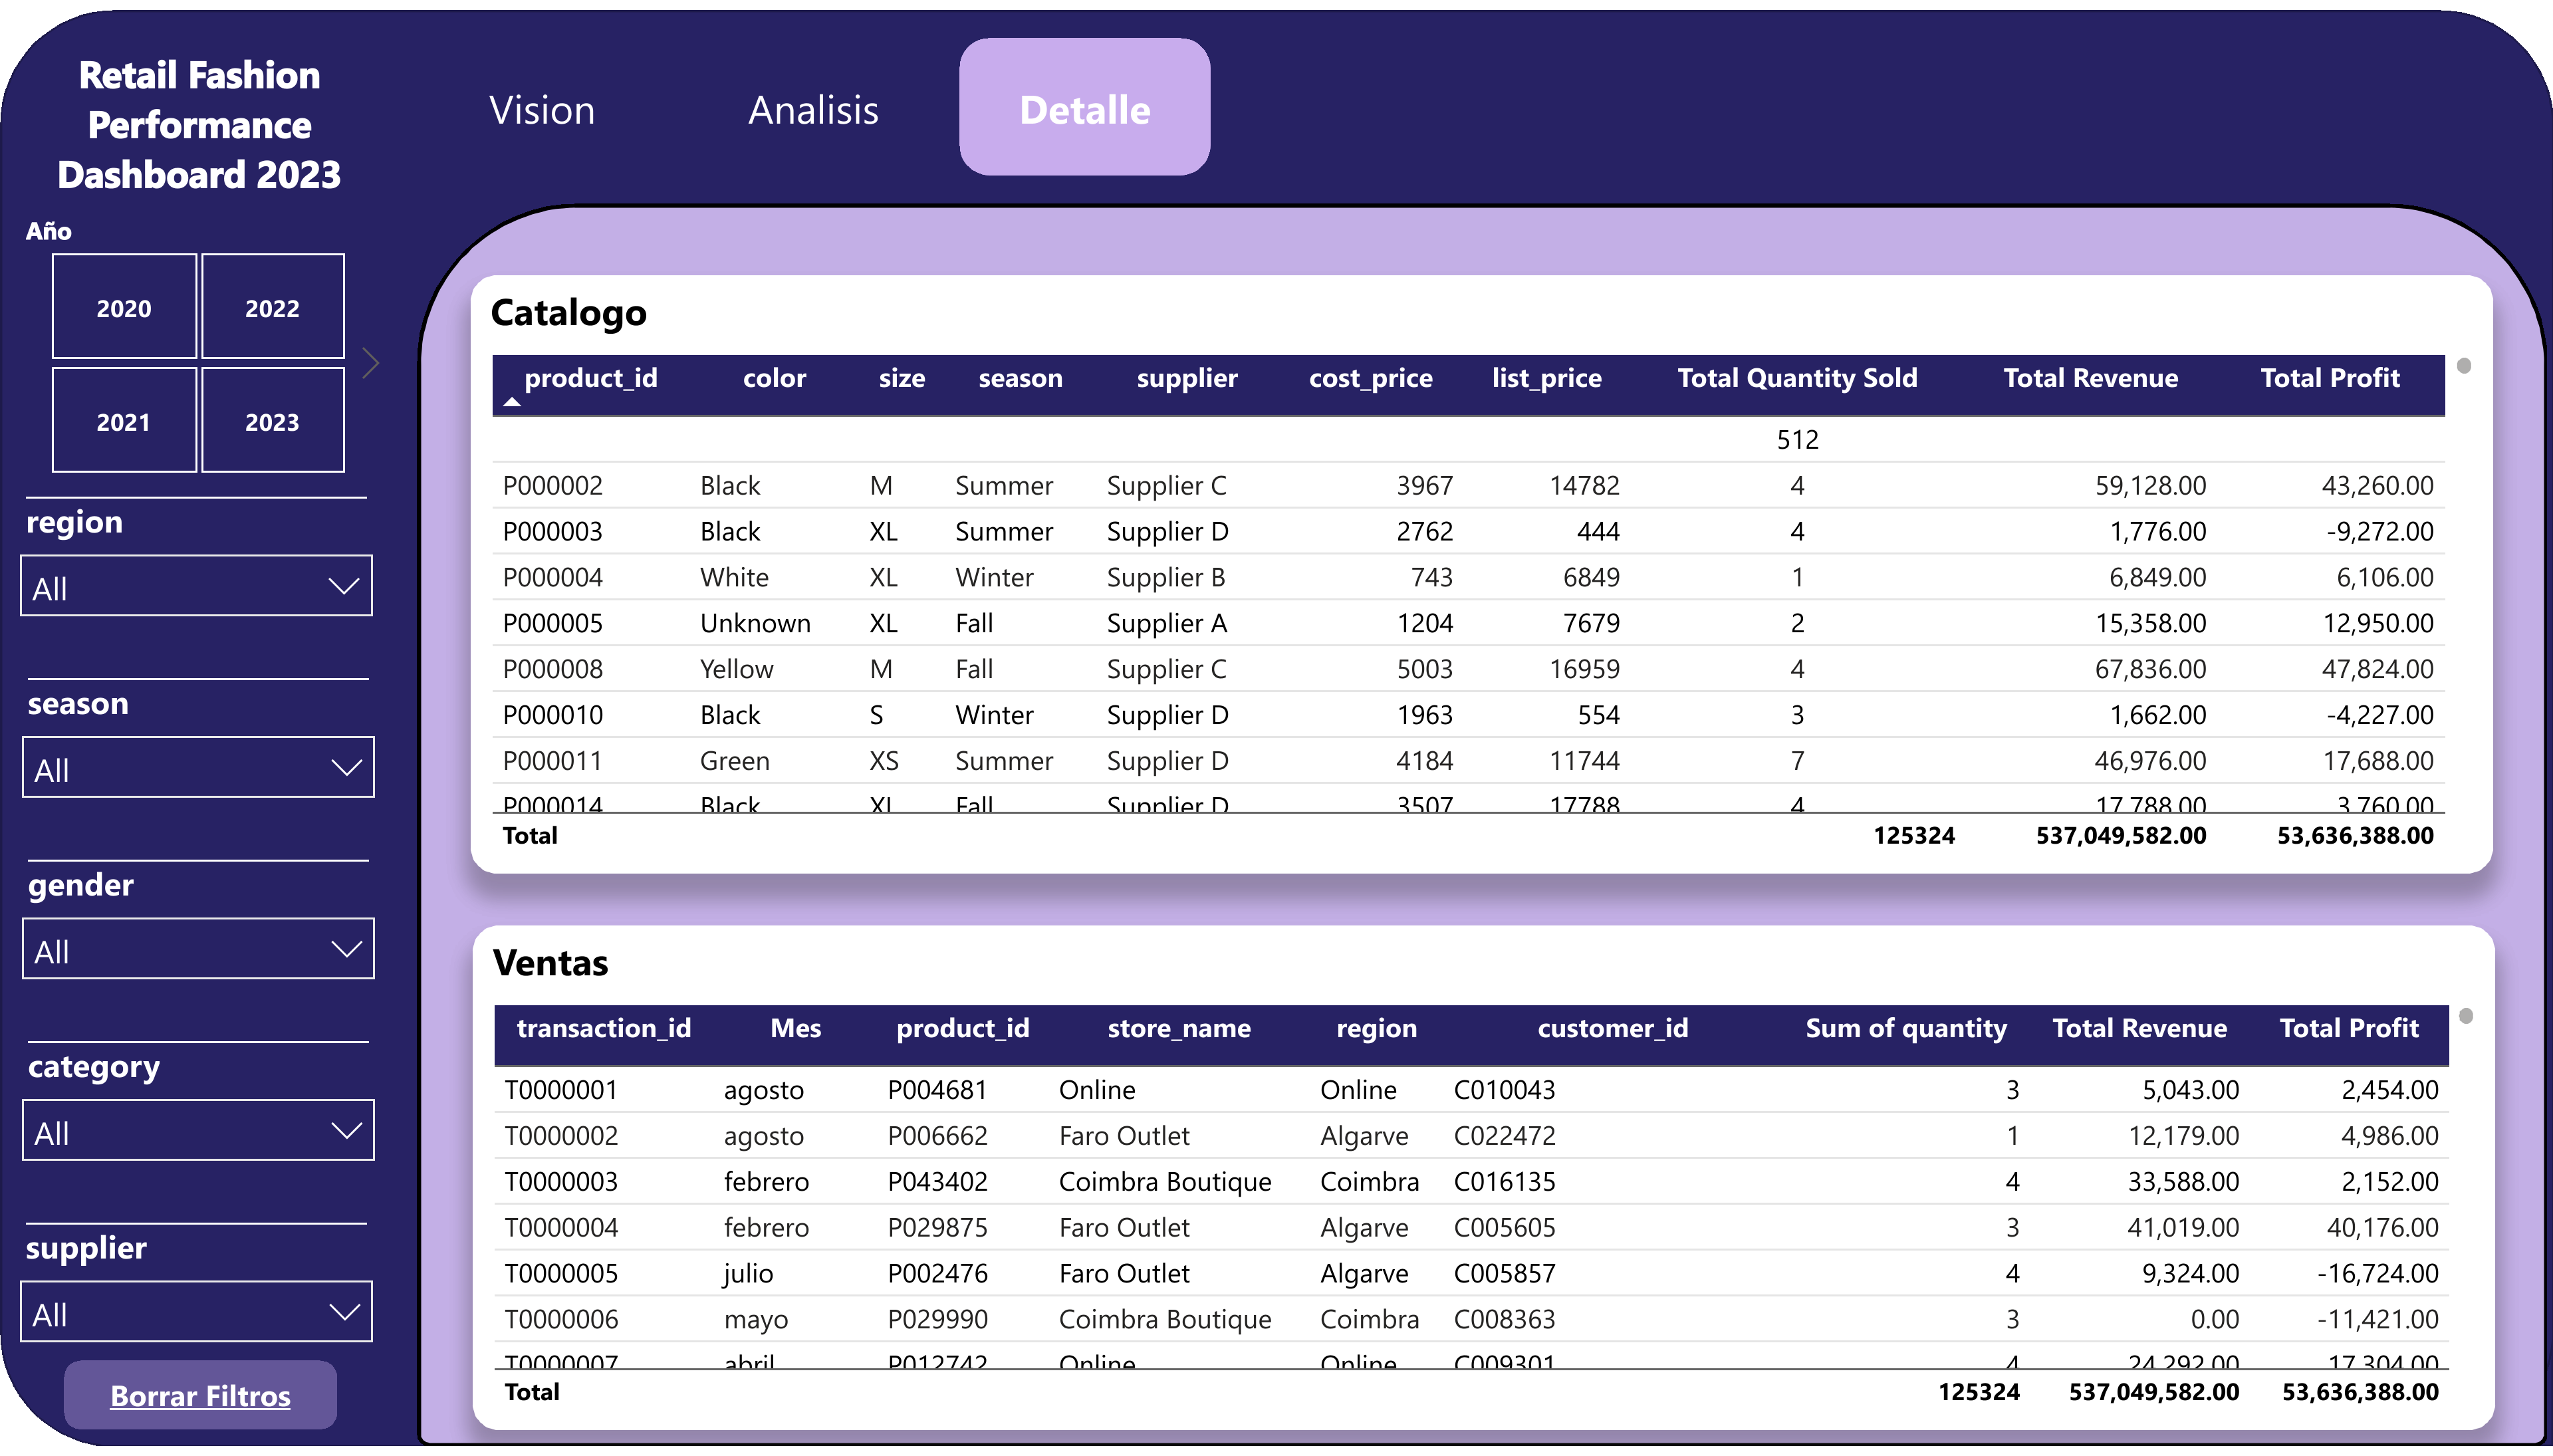

This screenshot's page, from the dashboard's own definition file:
{"tool":"powerbi","page":{"name":"Detalle","canvas":[1280,720],"ordinal":2},"visuals":[{"type":"shape","box":[324.2,330.4,956.3,390.2],"z":0},{"type":"shape","box":[0,0,1280.4,720.6],"z":1000},{"type":"textbox","box":[1.2,13.7,198.2,97.2],"z":2000},{"type":"slicer","fields":{"Values":["sales_data.date.Variación.Jerarquía de fechas.Año"]},"box":[0,97.2,197,142.1],"z":3000},{"type":"slicer","fields":{"Values":["store_data.region"]},"box":[0,239.2,196.5,91],"z":4000},{"type":"slicer","fields":{"Values":["product_data.season"]},"box":[1.2,330.4,197,91],"z":5000},{"type":"slicer","fields":{"Values":["product_data.category"]},"box":[1.2,512.4,197,91],"z":6000},{"type":"slicer","fields":{"Values":["customer_data.gender"]},"box":[1.2,421.4,197,91],"z":7000},{"type":"slicer","fields":{"Values":["product_data.supplier"]},"box":[0,603.4,197,91],"z":8000},{"type":"shape","box":[209.5,97.2,1068.5,623.4],"z":9000},{"type":"actionButton","box":[32.4,677,137.1,34.9],"z":10000},{"type":"tableEx","title":"Ventas","fields":{"Values":["sales_data.transaction_id","sales_data.date.Variación.Jerarquía de fechas.Mes","sales_data.product_id","store_data.store_name","store_data.region","sales_data.customer_id","Sum(sales_data.quantity)","_Measures.Total Revenue","_Measures.Total Profit"]},"box":[236.9,458.8,1013.6,253.1],"z":11000},{"type":"tableEx","title":"Catalogo","fields":{"Values":["product_data.product_id","product_data.color","product_data.size","product_data.season","product_data.supplier","product_data.cost_price","product_data.list_price","_Measures.Total Quantity Sold","_Measures.Total Revenue","_Measures.Total Profit"]},"box":[235.6,133.4,1013.6,300.5],"z":12000},{"type":"pageNavigator","box":[209.5,13.7,400.2,69.8],"z":13000}]}

Visuals, with their boxes on the page's 1280x720 design canvas (x1, y1, x2, y2). These are canvas units, not pixel positions in the 2553x1456 screenshot, which may show the page scaled, cropped or inside an application window:
shape: box(324, 330, 1280, 721)
shape: box(0, 0, 1280, 721)
textbox: box(1, 14, 199, 111)
slicer - sales_data.date.Variación.Jerarquía de fechas.Año: box(0, 97, 197, 239)
slicer - store_data.region: box(0, 239, 196, 330)
slicer - product_data.season: box(1, 330, 198, 421)
slicer - product_data.category: box(1, 512, 198, 603)
slicer - customer_data.gender: box(1, 421, 198, 512)
slicer - product_data.supplier: box(0, 603, 197, 694)
shape: box(210, 97, 1278, 721)
actionButton: box(32, 677, 170, 712)
"Ventas" tableEx: box(237, 459, 1250, 712)
"Catalogo" tableEx: box(236, 133, 1249, 434)
pageNavigator: box(210, 14, 610, 84)
